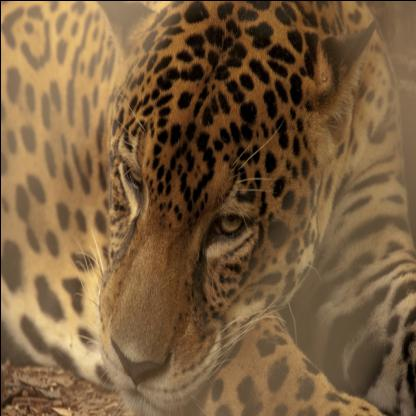leopard: (91, 1, 314, 410)
